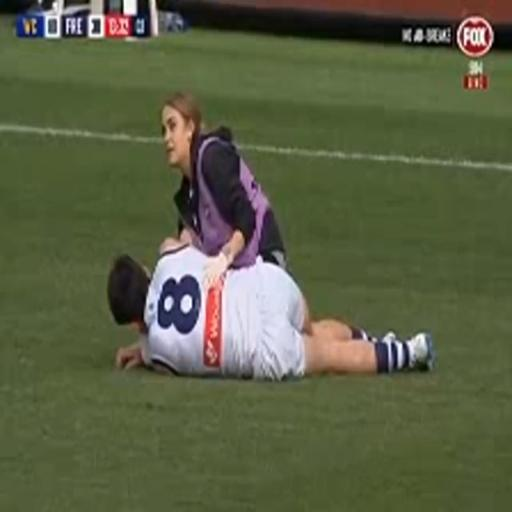nao-violencia: (81, 74, 440, 392)
